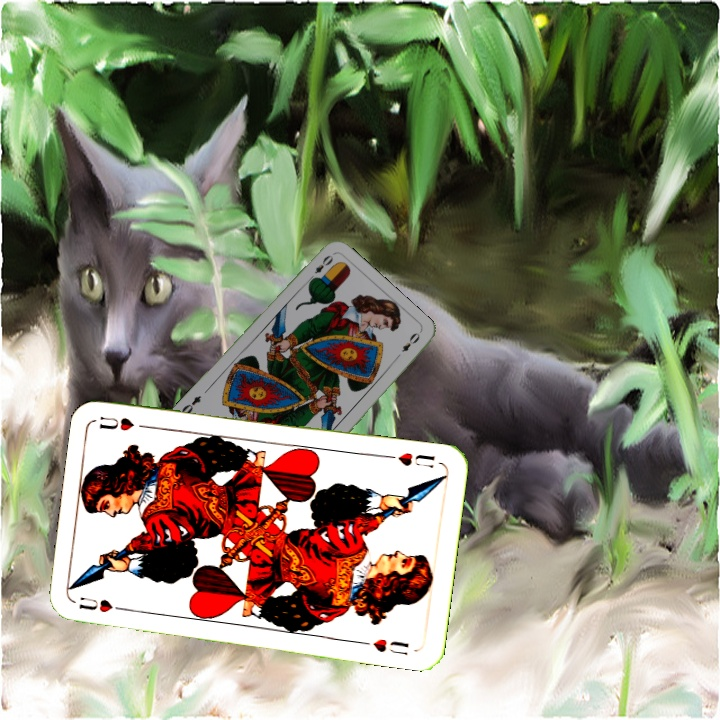EO: (304, 251, 336, 284)
HU: (74, 592, 131, 615), (383, 448, 437, 471)
